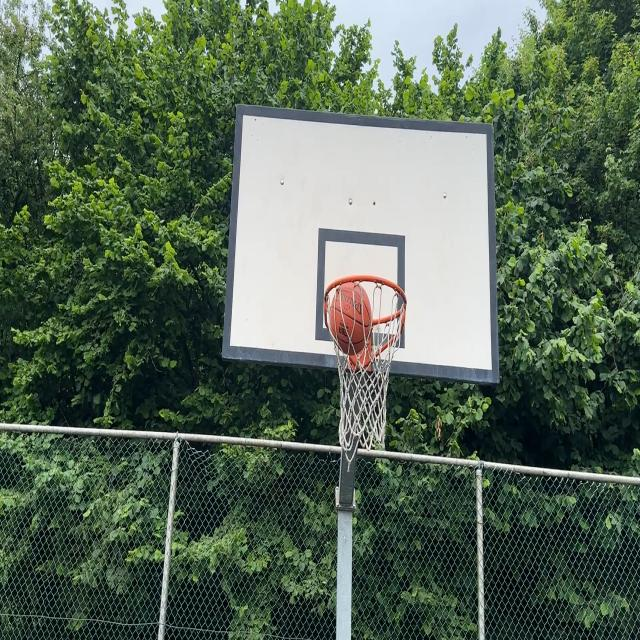Goal: (331, 282, 372, 357)
